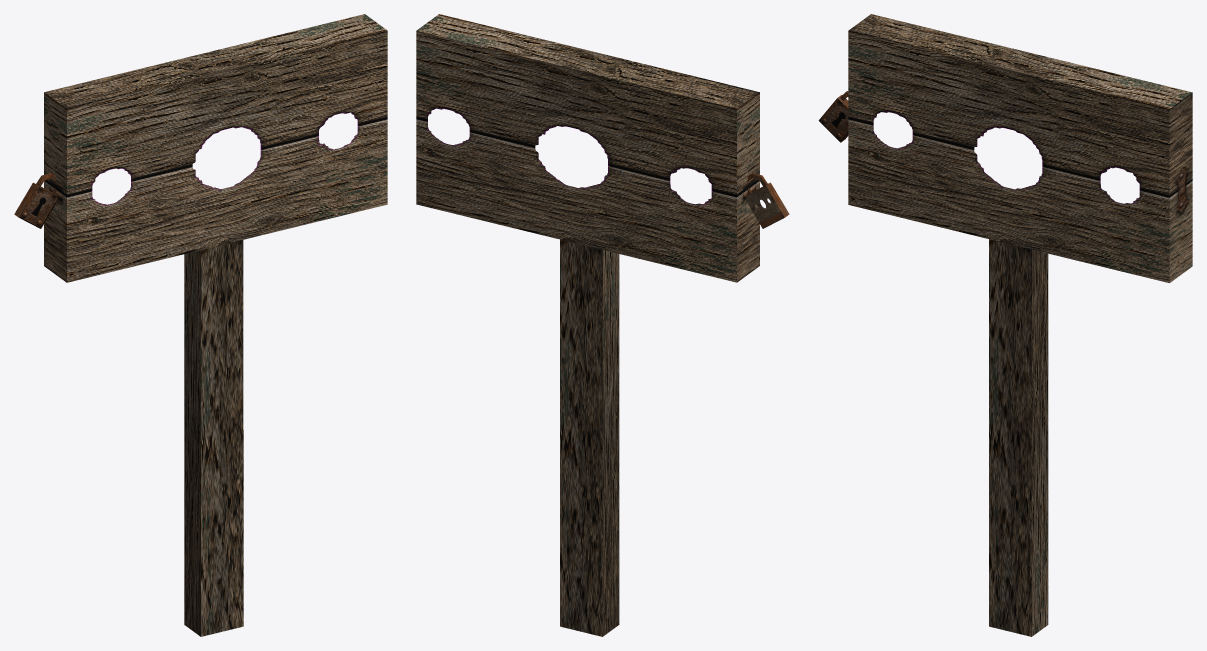
The model's file is mm9_deco_pillory.glb.
3 views of the same model, side by side, from view 1: azimuth 30°, elevation 25°; view 2: azimuth 150°, elevation 25°; view 3: azimuth 330°, elevation 25° (orthographic).
Parts seen in each view (by area): view 1: Pillory; view 2: Pillory; view 3: Pillory.
Boxes of the visible parts, box(x1,y1,x2,y2) form: Pillory: box(14, 14, 387, 636); Pillory: box(416, 14, 789, 636); Pillory: box(818, 14, 1192, 636).
Size of the model in its own units: 1.35 by 2.02 by 0.148.
Materials: 2 (2 with a texture image).
